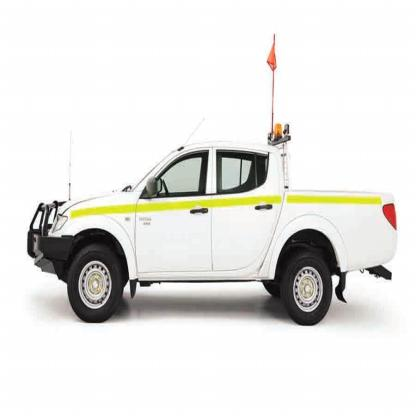light_vehicle: (28, 134, 400, 335)
